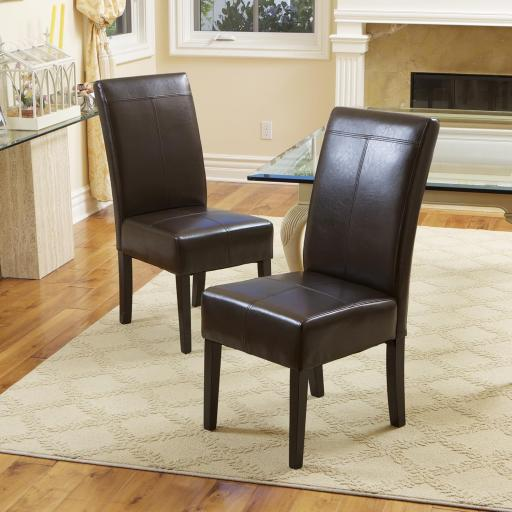chair: (189, 98, 446, 464)
